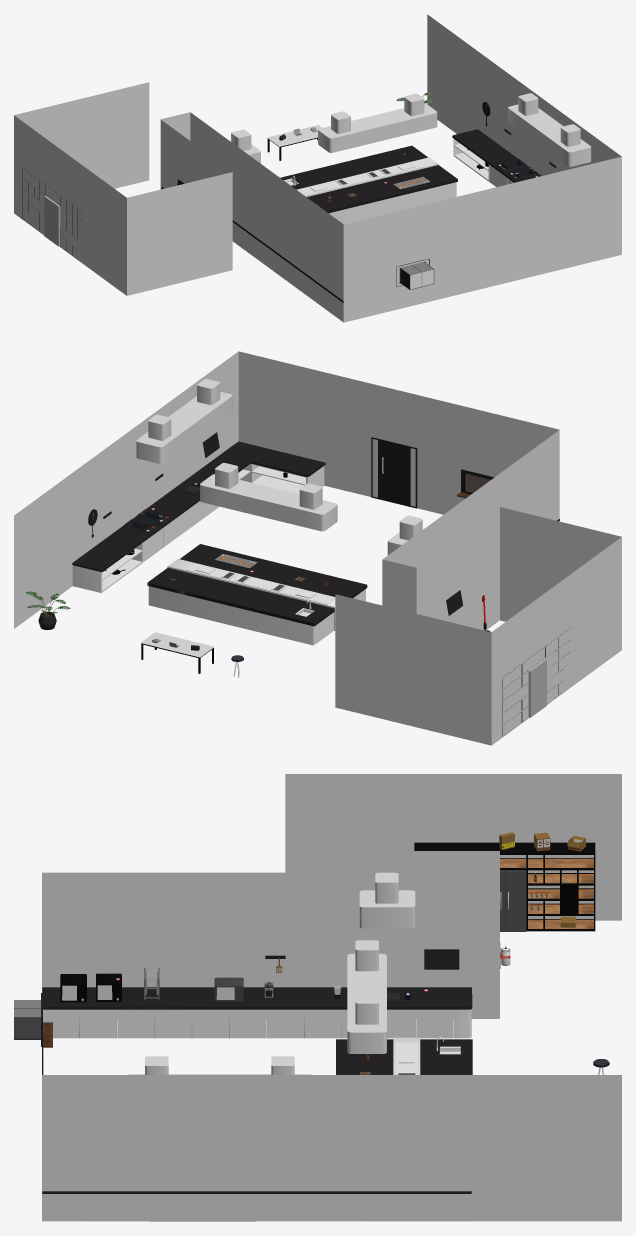
Rendered from props 1.fbx.
The picture shows the model from 3 angles, top to bottom: view 1: azimuth 30°, elevation 25°; view 2: azimuth 150°, elevation 25°; view 3: azimuth 270°, elevation 25°; orthographic projection. The views are drawn at different scales.
Parts seen in each view (by area): view 1: Plane.027, Counter base, air went 1, air vent 2, Right Counter Top, Counter, take away cabin, fridge body, Right Counter Cabinet 01, Side Table Glass, air vent 3; view 2: Plane.027, Counter base, Right Counter Top, air went 1, air vent 2, Counter, main door, Right Counter Cabinet 01, Right Counter Cabnet 05, main door border, fridge body, Right Counter Cabnet 02 (+2 smaller); view 3: Plane.027, Left Counter Top, Rack.001, air went 1, Counter base, air vent 3, Left Counter Cabnet 01, right door, Right Counter Top, take away cabin, Left Counter Cabnet 05.001, Left Counter Cabnet 03.002 (+10 smaller).
Part boxes in pixels (box(x1,y1,x2,y2)): Plane.027: box(14, 14, 621, 322); Counter base: box(280, 145, 457, 224); air went 1: box(318, 93, 437, 152); air vent 2: box(508, 93, 591, 166); Right Counter Top: box(452, 129, 541, 182); Counter: box(296, 157, 438, 197); take away cabin: box(396, 259, 434, 289); fridge body: box(44, 196, 60, 246); Right Counter Cabinet 01: box(453, 139, 489, 181); Side Table Glass: box(267, 125, 322, 146); air vent 3: box(230, 129, 260, 163); Plane.027: box(14, 351, 621, 745); Counter base: box(147, 544, 367, 645); Right Counter Top: box(72, 441, 325, 572); air went 1: box(200, 463, 337, 531); air vent 2: box(136, 379, 232, 463); Counter: box(167, 559, 335, 630); main door: box(379, 440, 409, 505); Right Counter Cabinet 01: box(72, 542, 143, 592); Right Counter Cabnet 05: box(250, 463, 324, 494); main door border: box(371, 437, 417, 508); fridge body: box(528, 659, 546, 717); Right Counter Cabnet 02: box(143, 512, 184, 561); Plane.027: box(42, 774, 621, 1221); Left Counter Top: box(42, 987, 453, 1009); Rack.001: box(414, 842, 595, 931); air went 1: box(347, 940, 386, 1053); Counter base: box(336, 1039, 472, 1074); air vent 3: box(359, 872, 415, 928); Left Counter Cabnet 01: box(416, 987, 472, 1038); right door: box(505, 870, 526, 931); Right Counter Top: box(42, 1191, 471, 1193); take away cabin: box(14, 993, 42, 1046); Left Counter Cabnet 05.001: box(117, 1009, 154, 1038); Left Counter Cabnet 03.002: box(304, 1009, 341, 1038).
Bounding box in the file's own units: 22.14 × 5.2 × 18.81.
